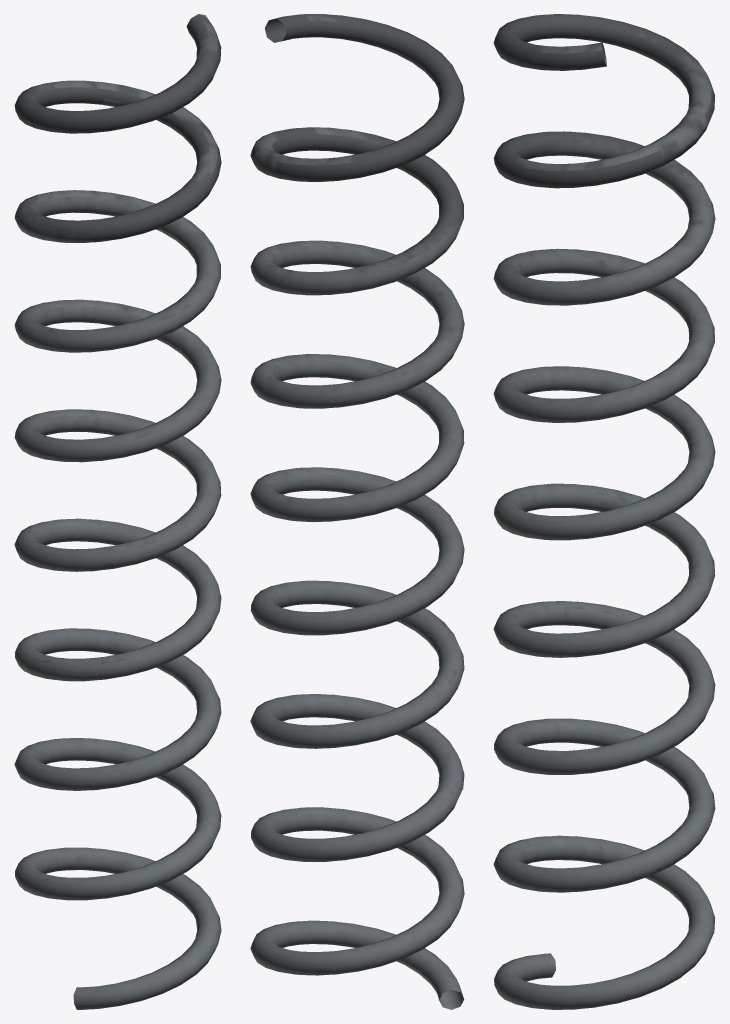
Rendered from 0_spring.obj.
3 views of the same model, side by side, from view 1: azimuth 30°, elevation 25°; view 2: azimuth 150°, elevation 25°; view 3: azimuth 270°, elevation 25° (orthographic). The views are drawn at different scales.
Size of the model in its own units: 0.204 by 1.02 by 0.204.
1 material, 1 textured.
